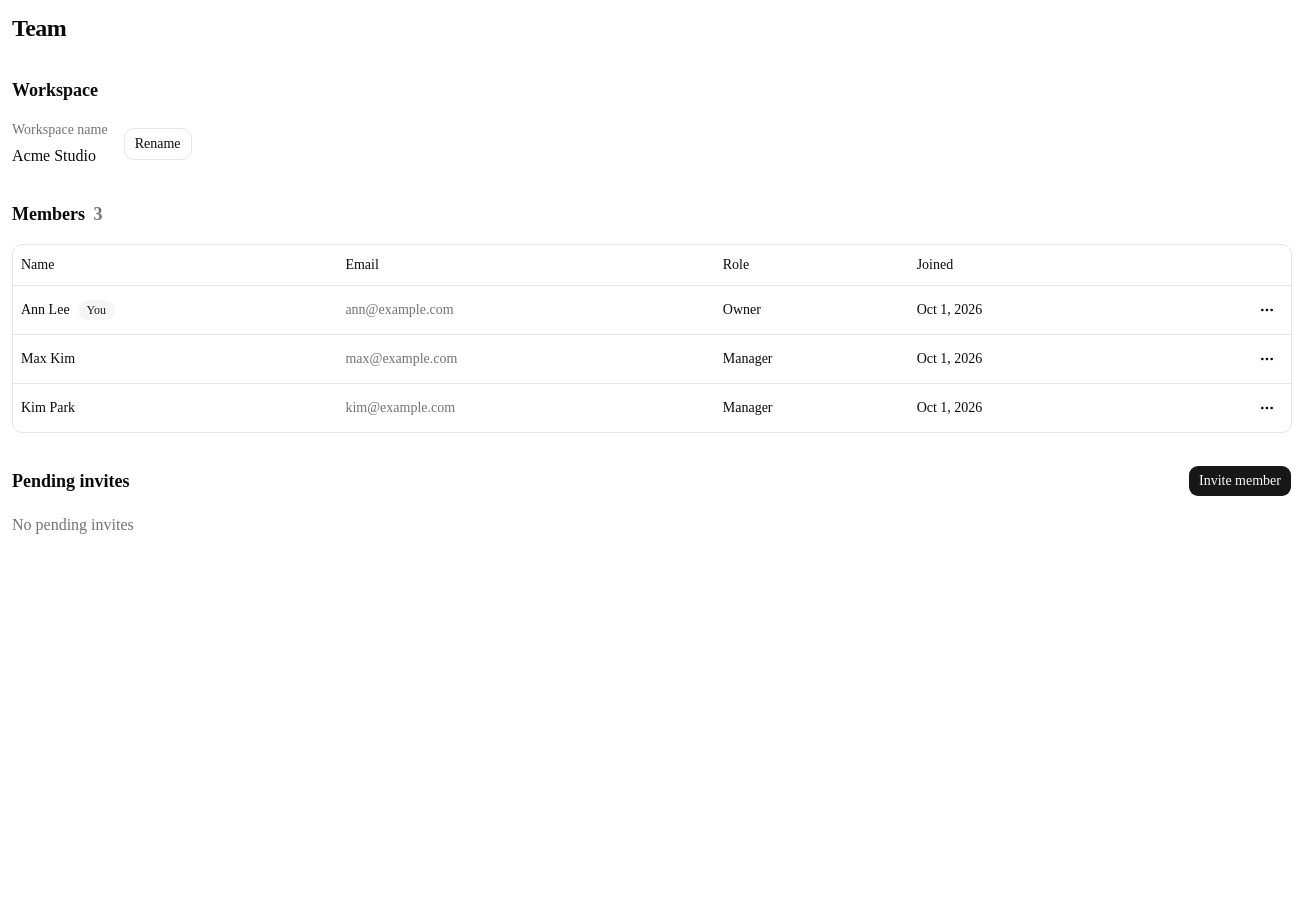
Scenario: TeamView › roles › should toast when the role change answers 404 MEMBER_NOT_FOUND
The width and height of the screenshot is (1304, 912).
Click the button named "Actions for Max Kim" at coordinates (1267, 358), box [1251,342,1283,374]
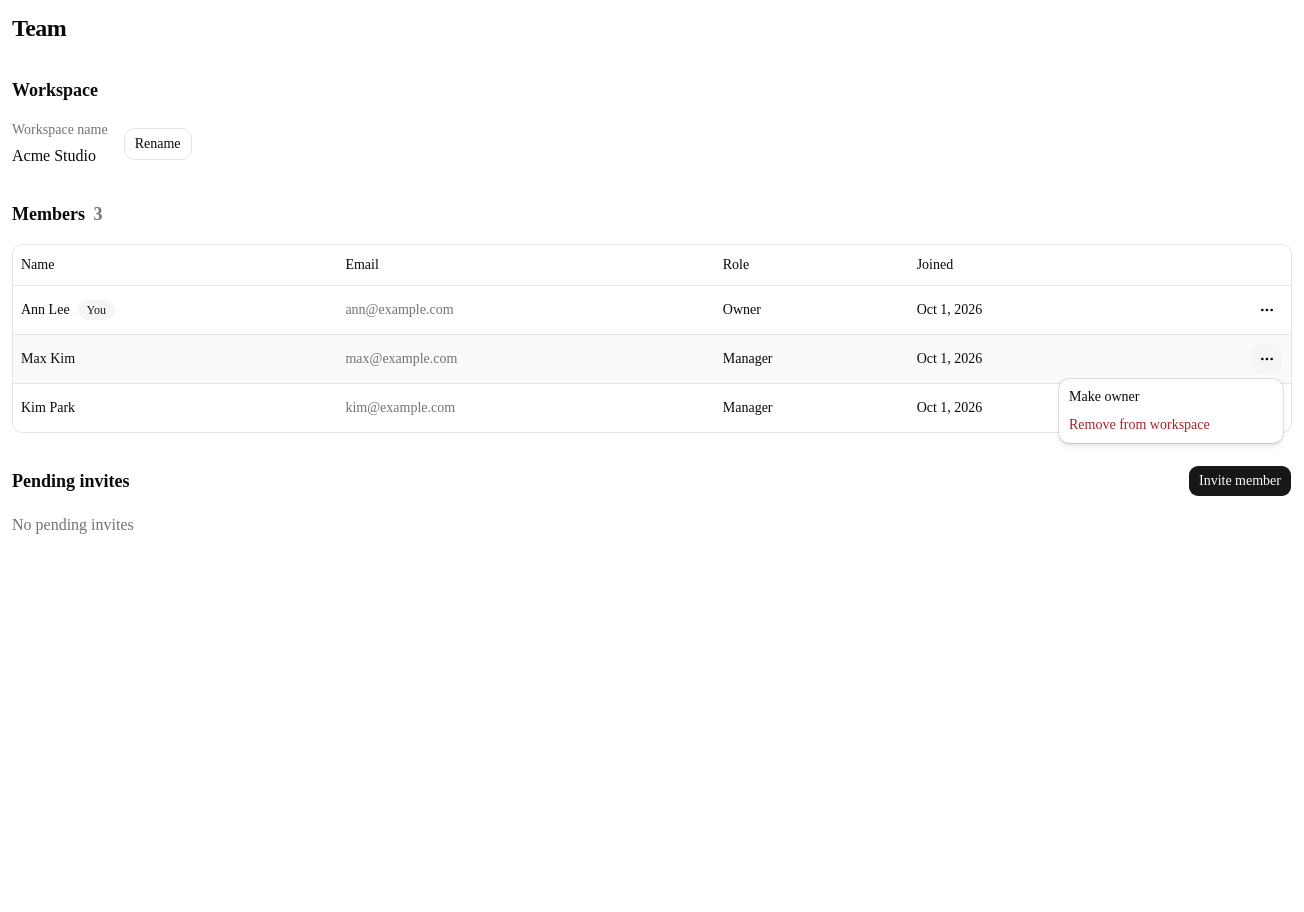
Click the menu item "Make owner" at coordinates (1104, 396), box [1069,389,1139,404]
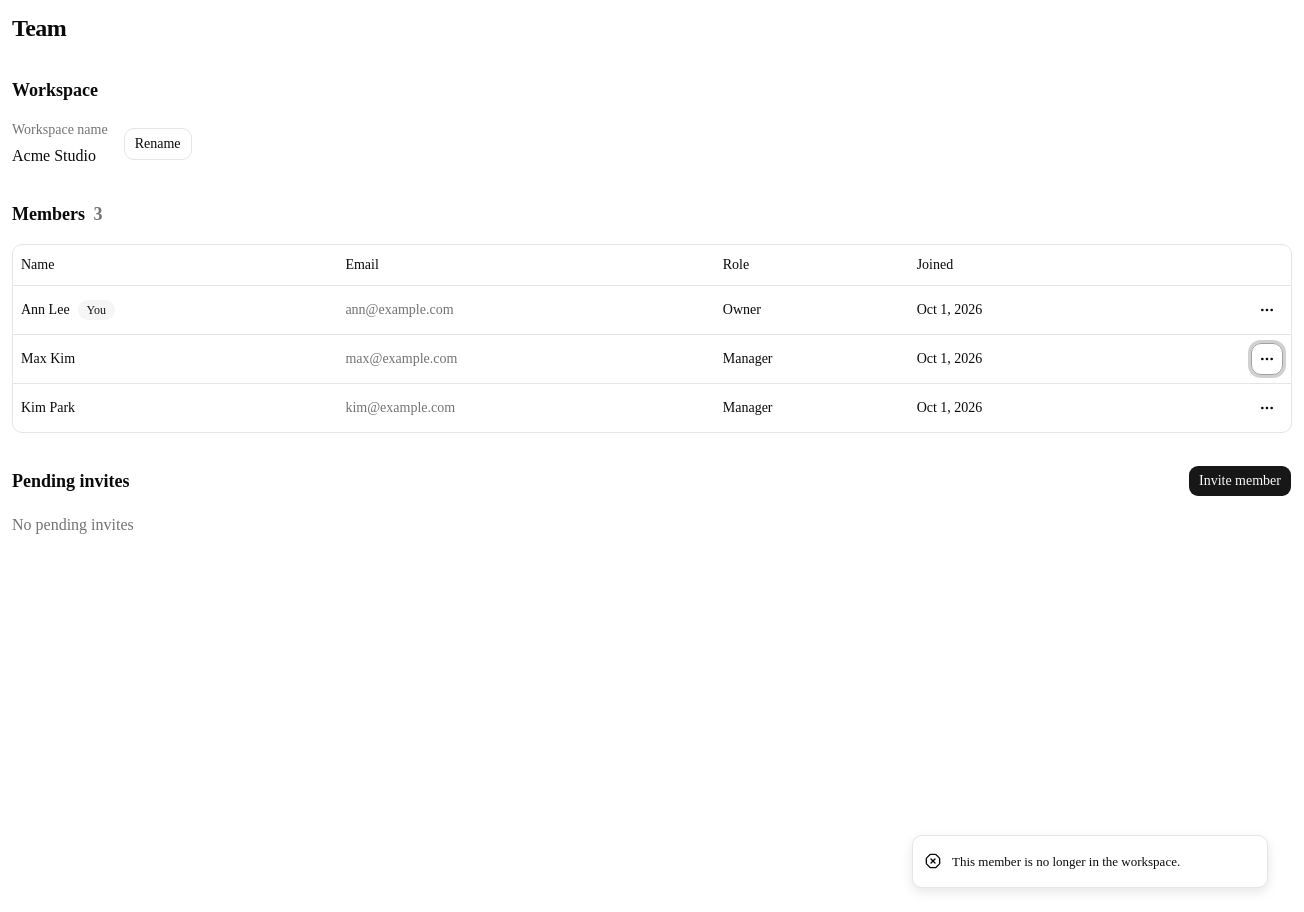
Now the text "This member is no longer in the workspace." is shown, box [952,852,1180,871]
